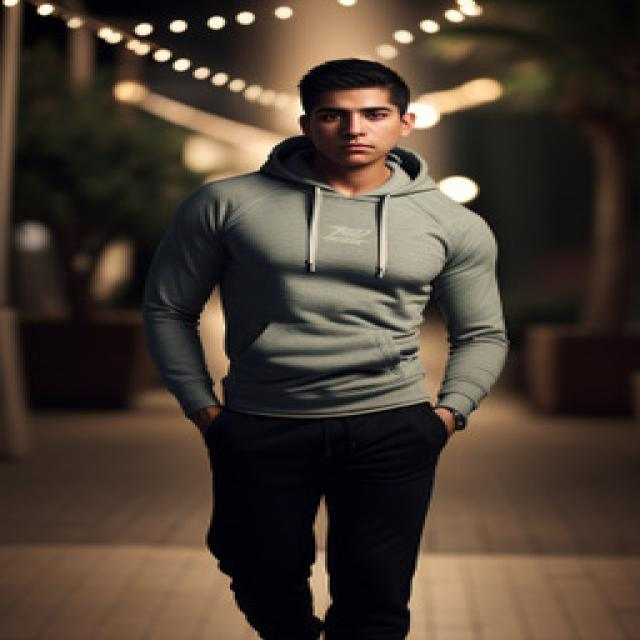Ai human 2: (125, 45, 550, 640)
